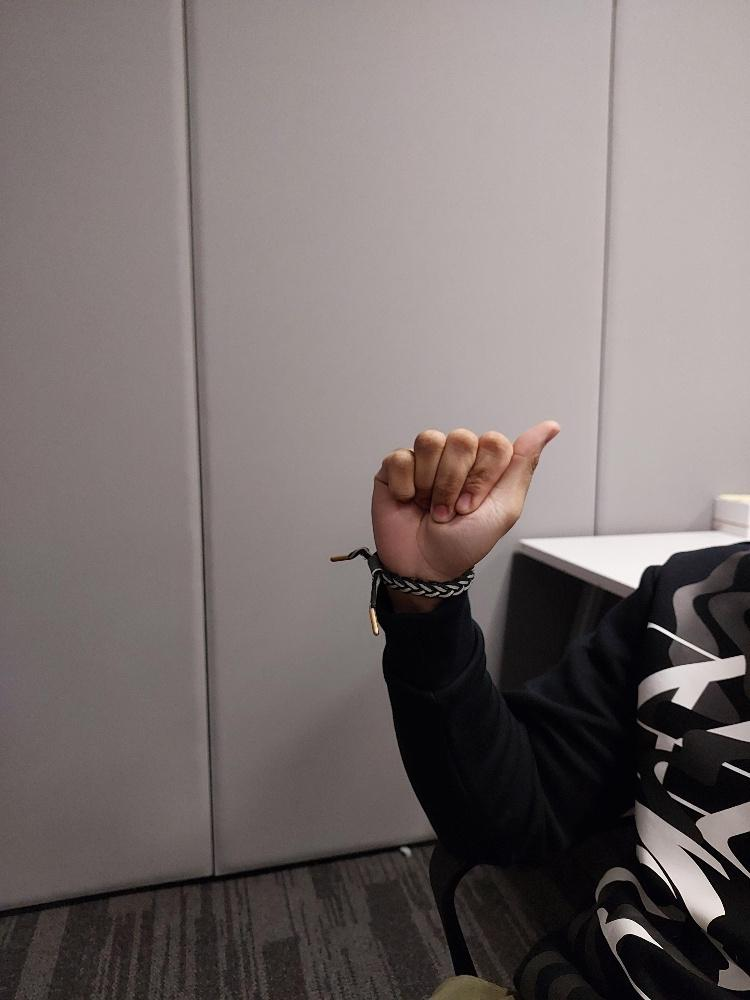a: (368, 416, 562, 581)
